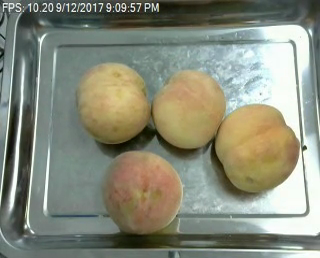Peach: (214, 103, 300, 192), (102, 150, 182, 234), (76, 61, 149, 144), (152, 70, 226, 149)
